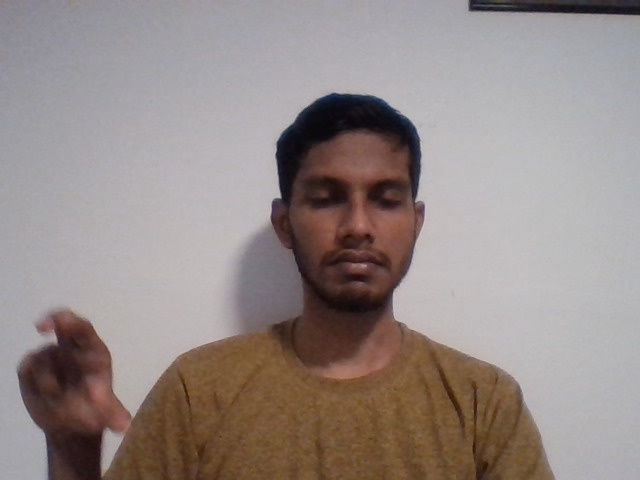no: (8, 299, 170, 470)
